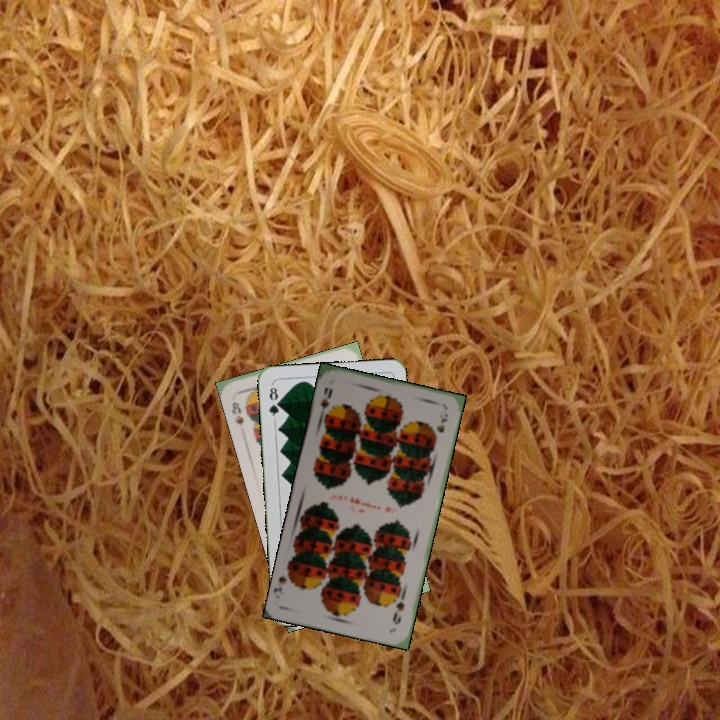G8: (265, 381, 282, 421)
S8: (228, 398, 246, 427)
S9: (316, 383, 335, 421), (389, 590, 407, 627)
